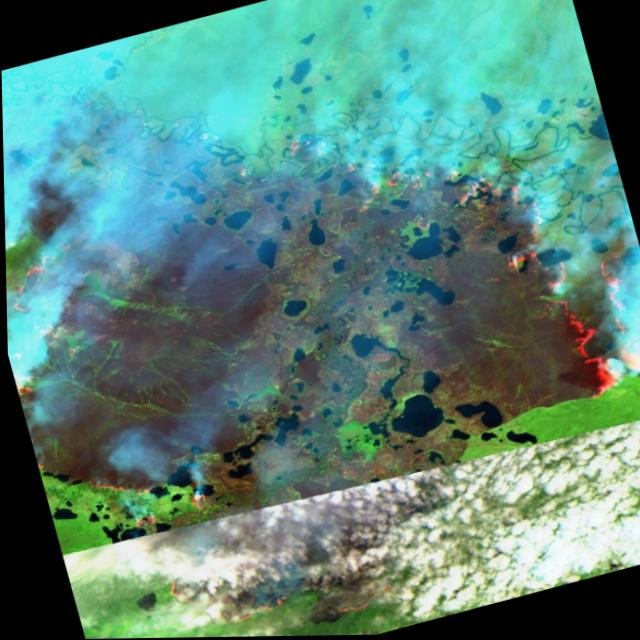fire: (281, 61, 640, 462), (3, 168, 219, 555)
